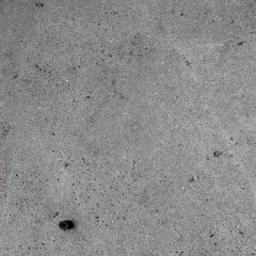FOD: (55, 218, 79, 237)
